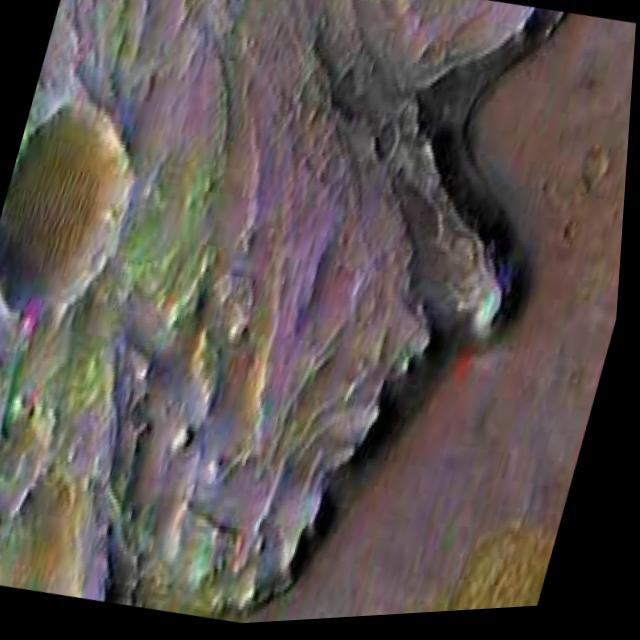Crater: (0, 64, 188, 378), (401, 587, 486, 620)
